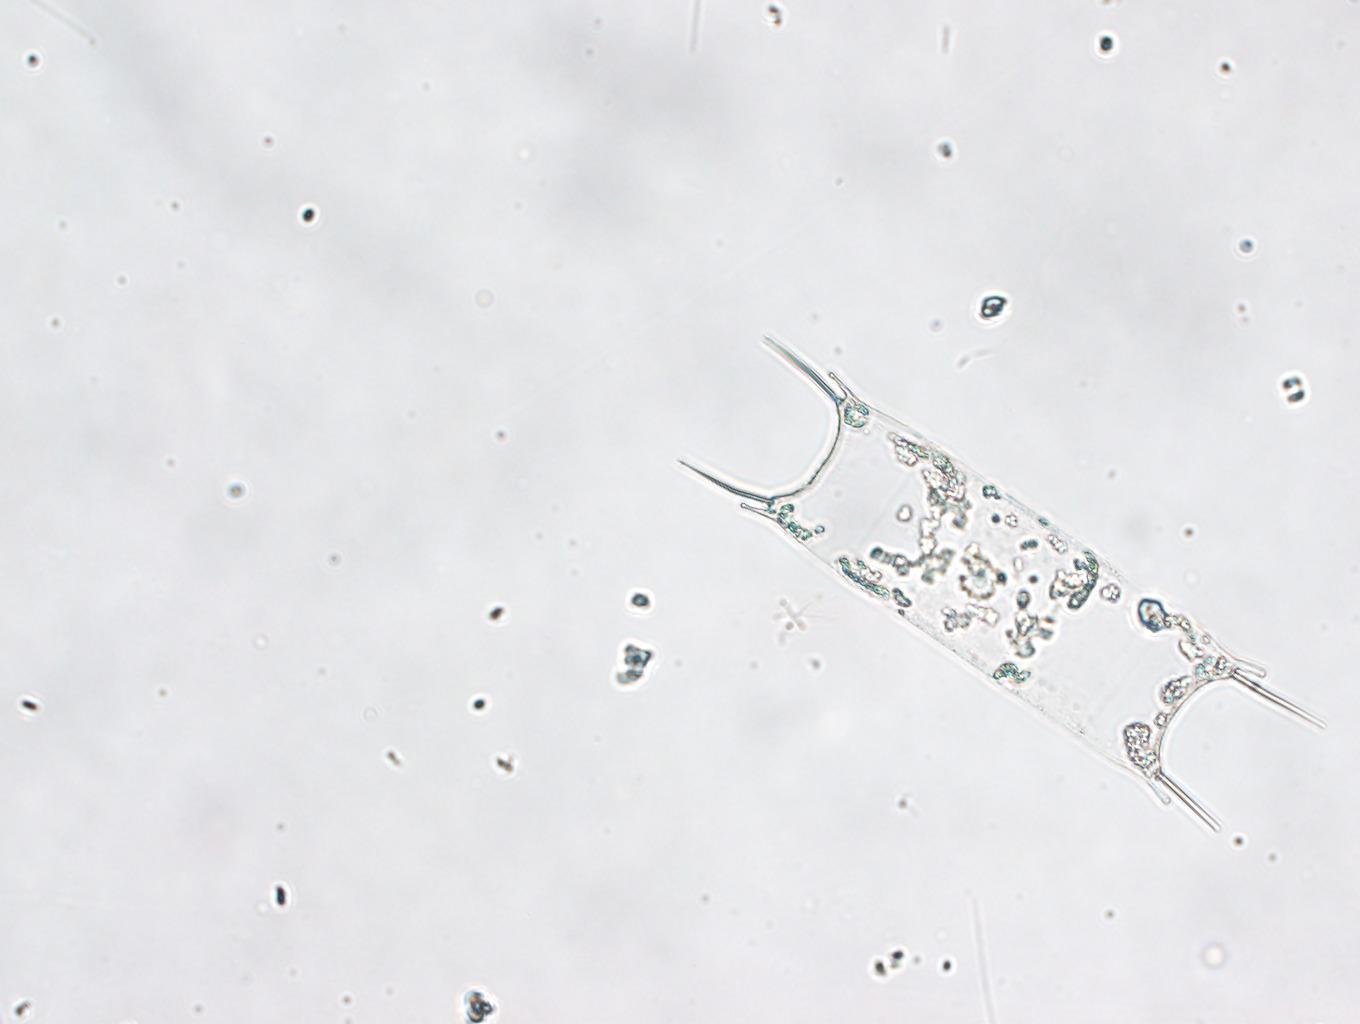biddulphia: (677, 335, 1325, 833)
